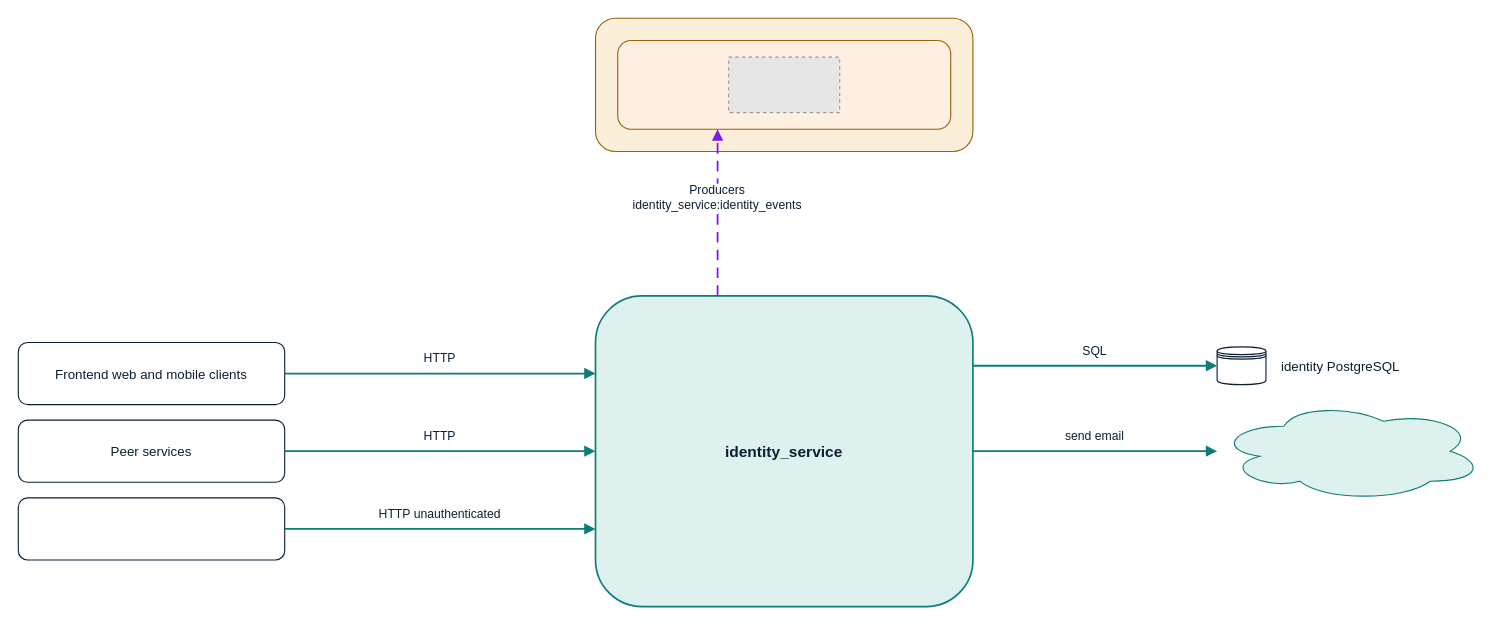
The diagram is 1502 pixels wide and 625 high, and some of its shapes have lost their labels. Grey dashed boxes stand in for pictures. Here are the shapes that lost their labels. From the top down, the box of each, then its label:
(1216, 400, 1484, 501): Resend email provider
(17, 497, 285, 560): JWKS verifiers
